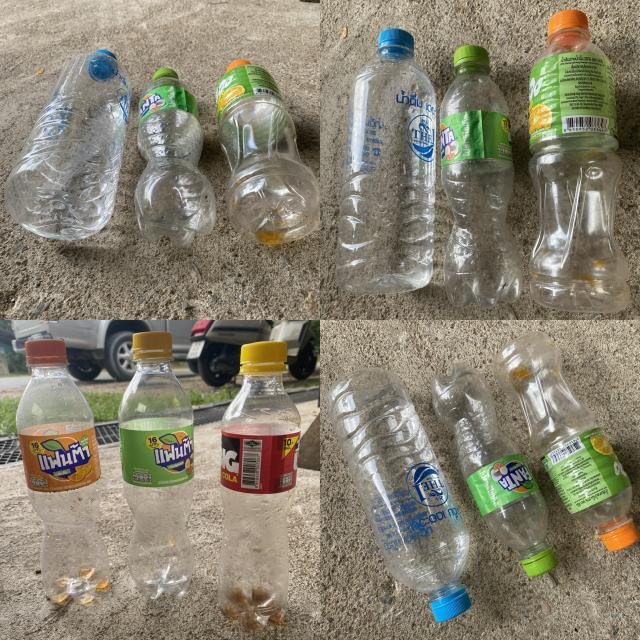plastik: (326, 368, 470, 619), (494, 332, 640, 551), (529, 9, 630, 312), (431, 364, 558, 578), (335, 29, 436, 294), (16, 340, 110, 604), (218, 341, 301, 629), (5, 51, 130, 239), (440, 45, 522, 309), (119, 331, 194, 599), (216, 59, 319, 244), (135, 68, 216, 248)
